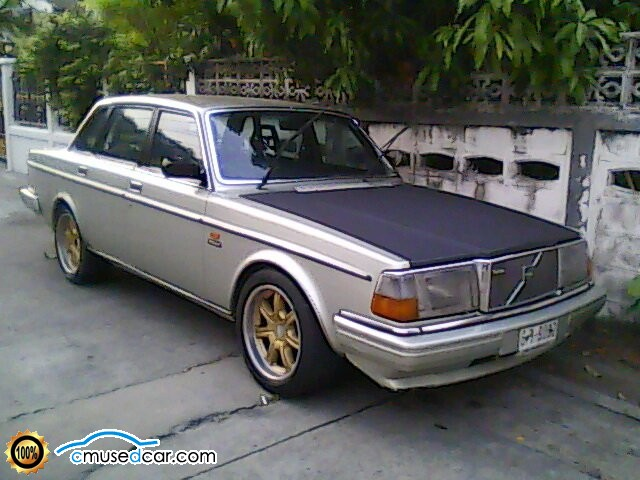sedan: (18, 89, 610, 399)
